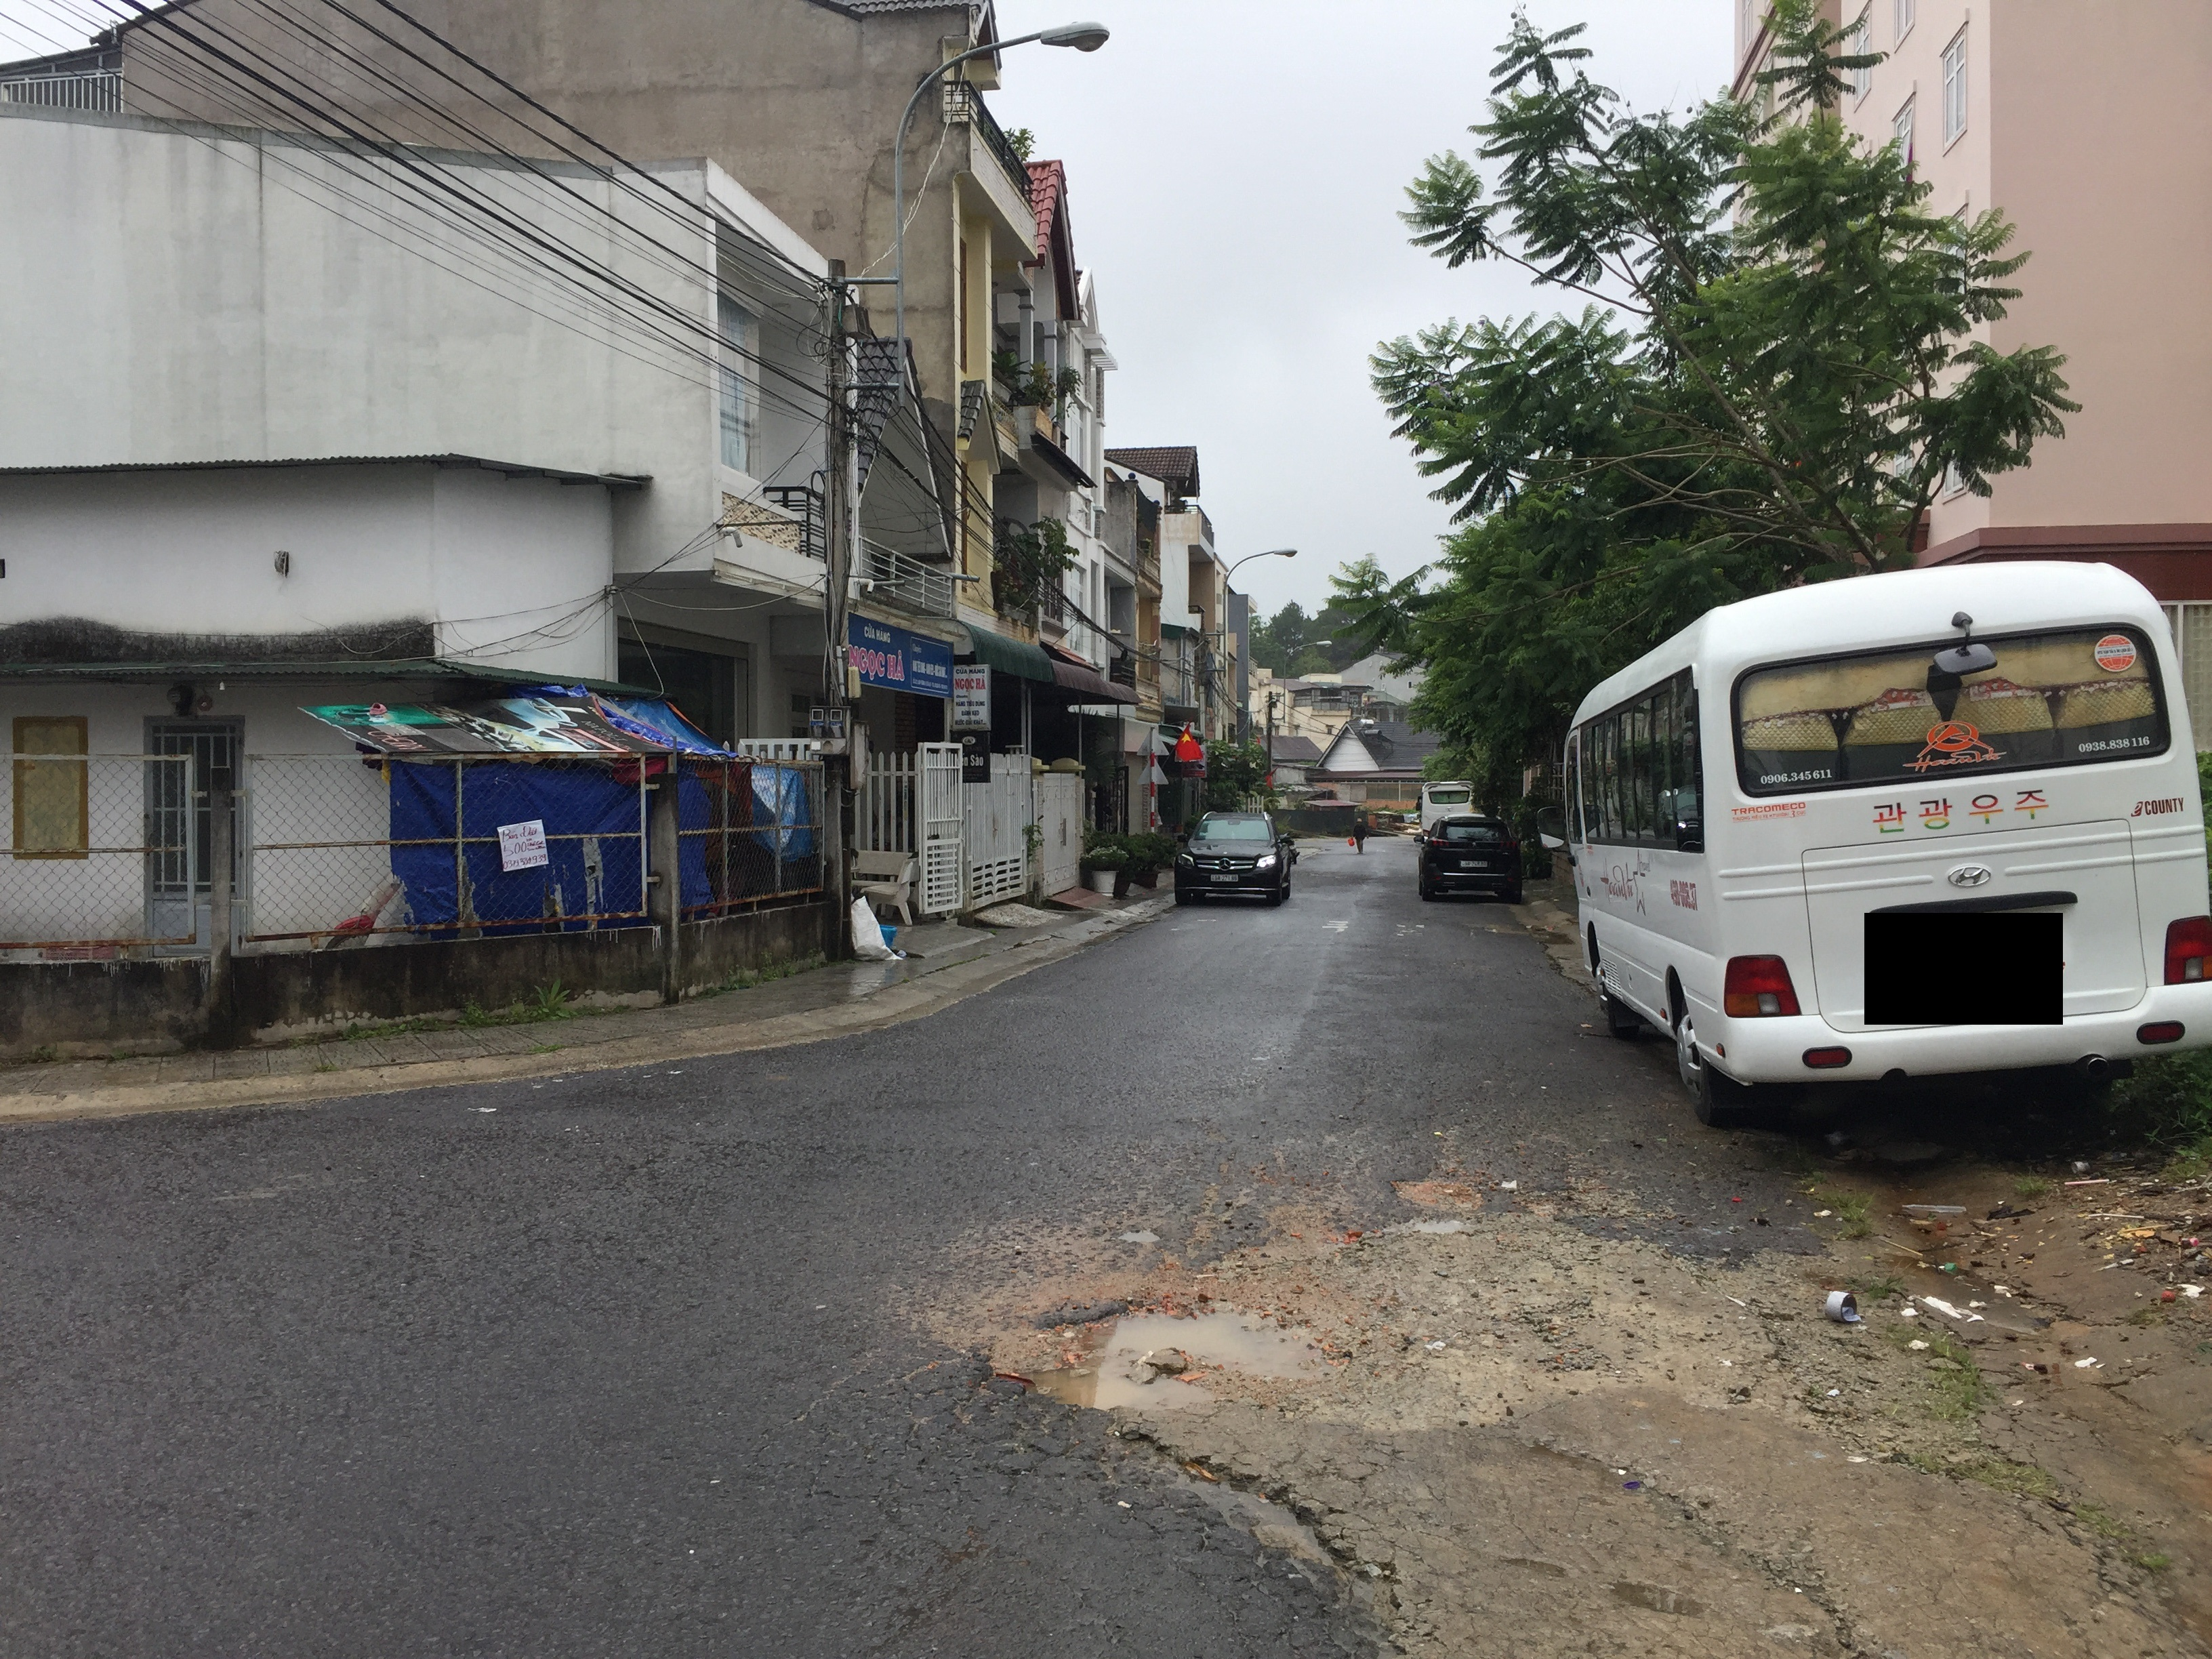hole: (972, 1295, 1348, 1424), (1132, 1443, 1404, 1591), (1359, 1169, 1494, 1244), (1113, 1223, 1167, 1246)
